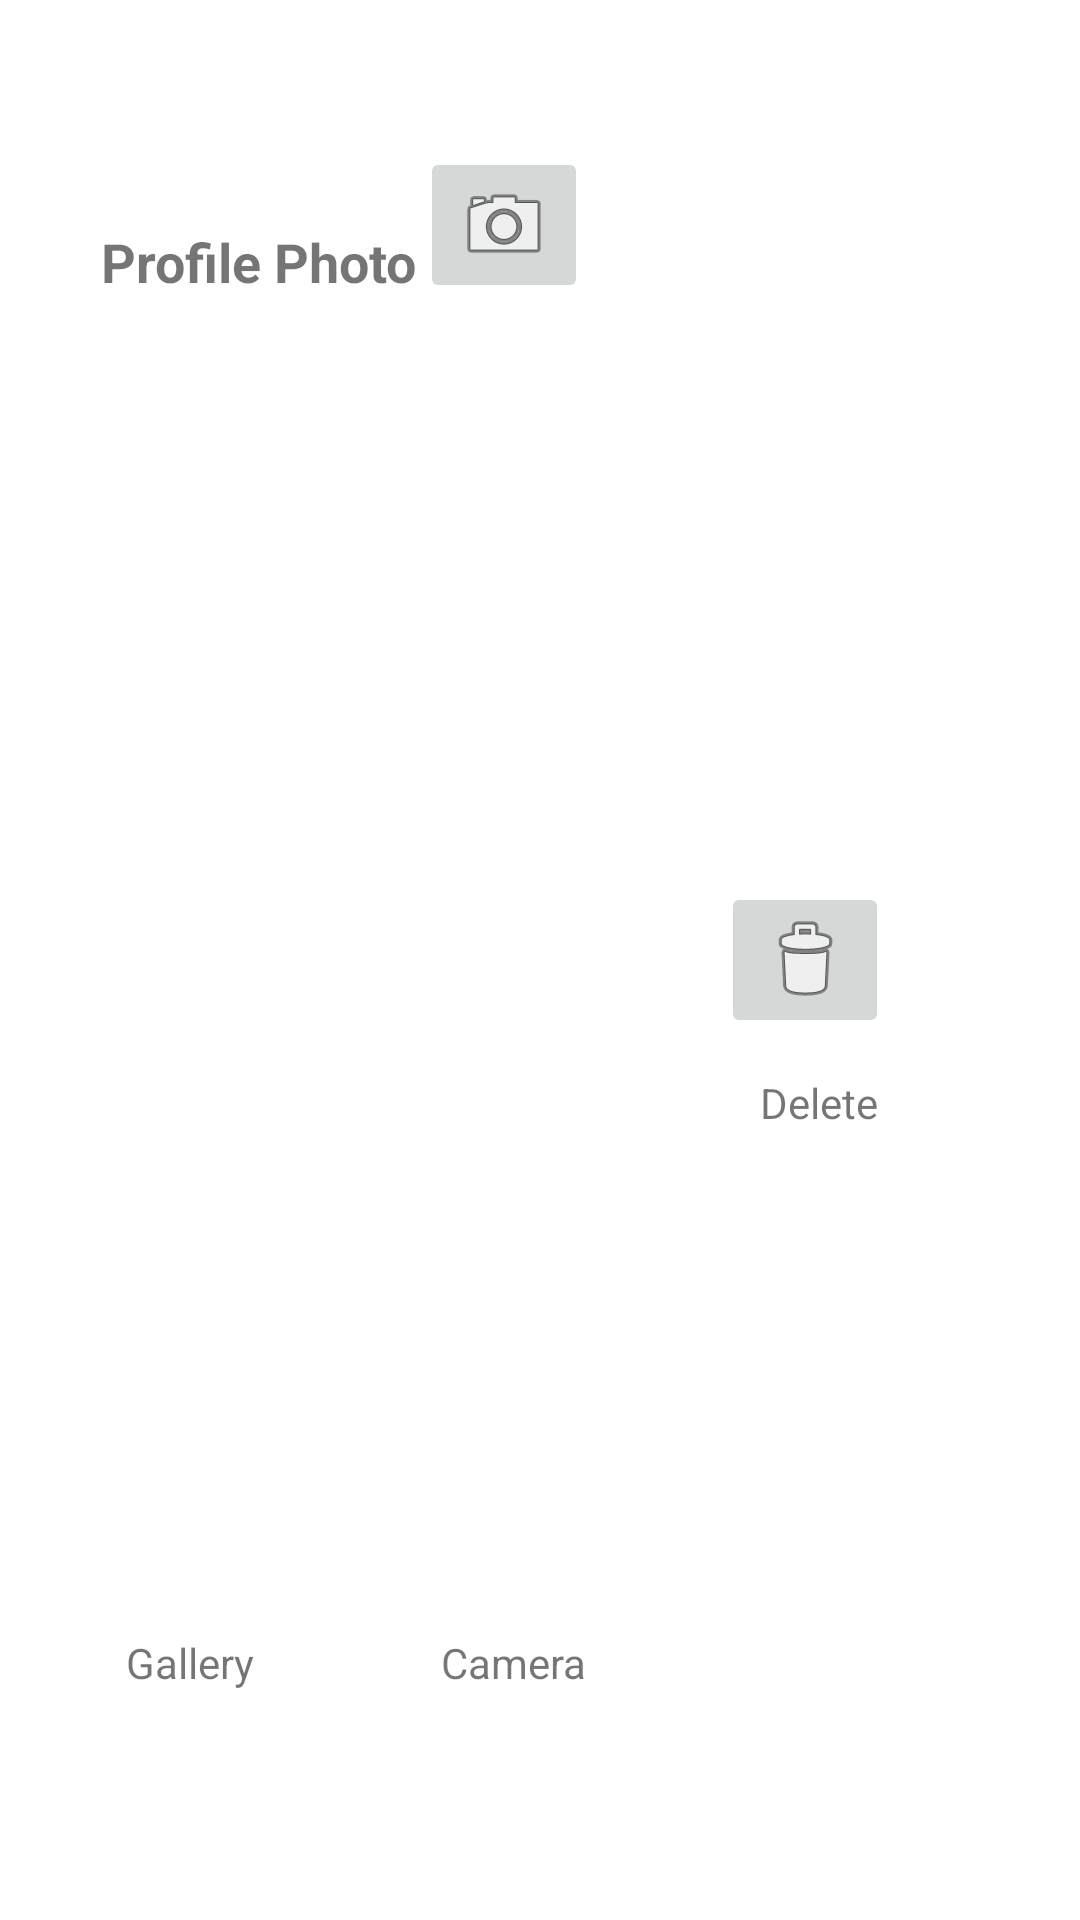

Icons on this 1080 × 1920 Android screen, each with its box as (x1, y1, x2, y2):
camera: (432, 165, 576, 285)
